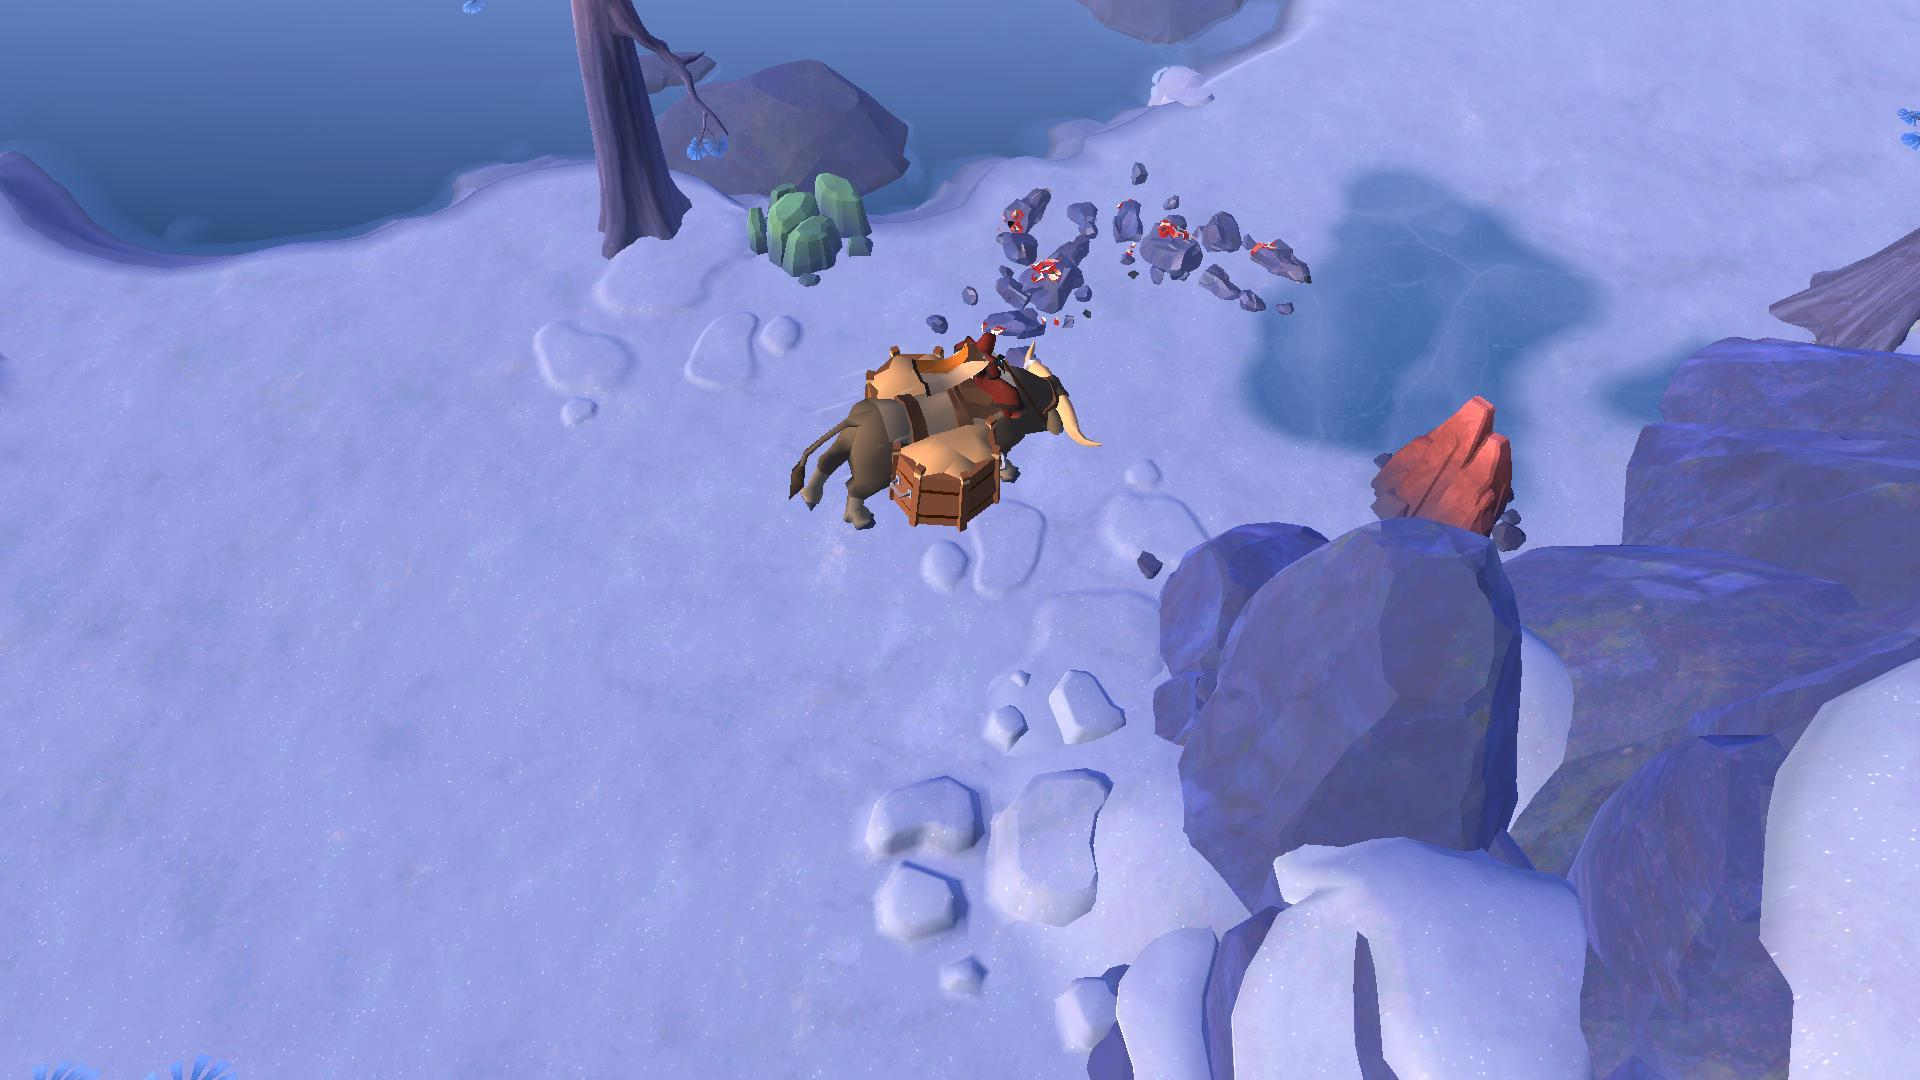rock_t3: (736, 165, 876, 282)
rock_t5: (1360, 392, 1526, 555)
